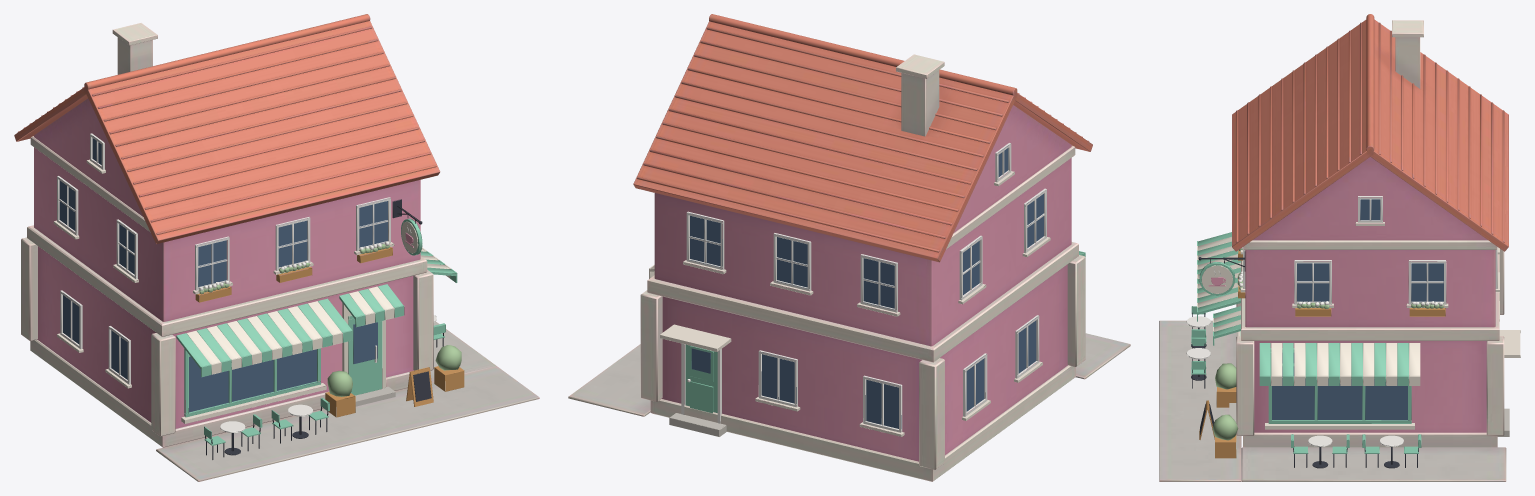
File: cafe.glb
3 views of the same model, side by side, from view 1: azimuth 30°, elevation 25°; view 2: azimuth 150°, elevation 25°; view 3: azimuth 270°, elevation 25° (orthographic). The views are drawn at different scales.
Parts seen in each view (by area): view 1: cafe_body, cafe_details, cafe_shrubs; view 2: cafe_body, cafe_details; view 3: cafe_body, cafe_details, cafe_shrubs.
Part boxes in pixels (x1,y1,x2,y2): cafe_body: (14, 14, 539, 481); cafe_details: (53, 133, 464, 459); cafe_shrubs: (327, 345, 461, 396); cafe_body: (568, 14, 1130, 481); cafe_details: (649, 143, 1085, 436); cafe_body: (1159, 14, 1508, 481); cafe_details: (1186, 196, 1520, 468); cafe_shrubs: (1212, 363, 1238, 440).
Size of the model in its own units: 10.68 by 10.05 by 10.1.
11 materials, 1 textured.
